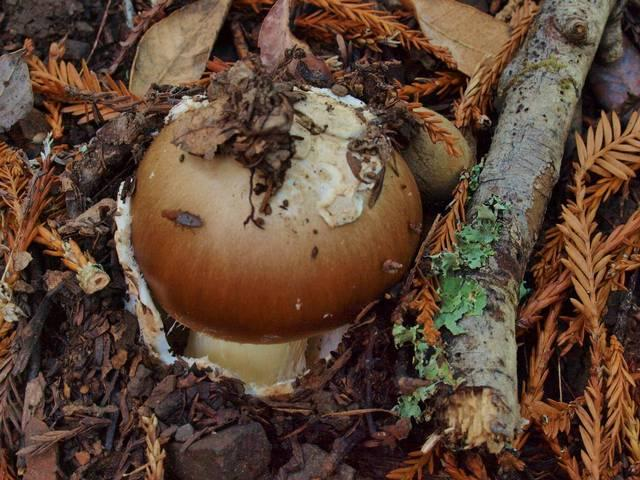Edible Mushroom: (125, 74, 424, 397)
